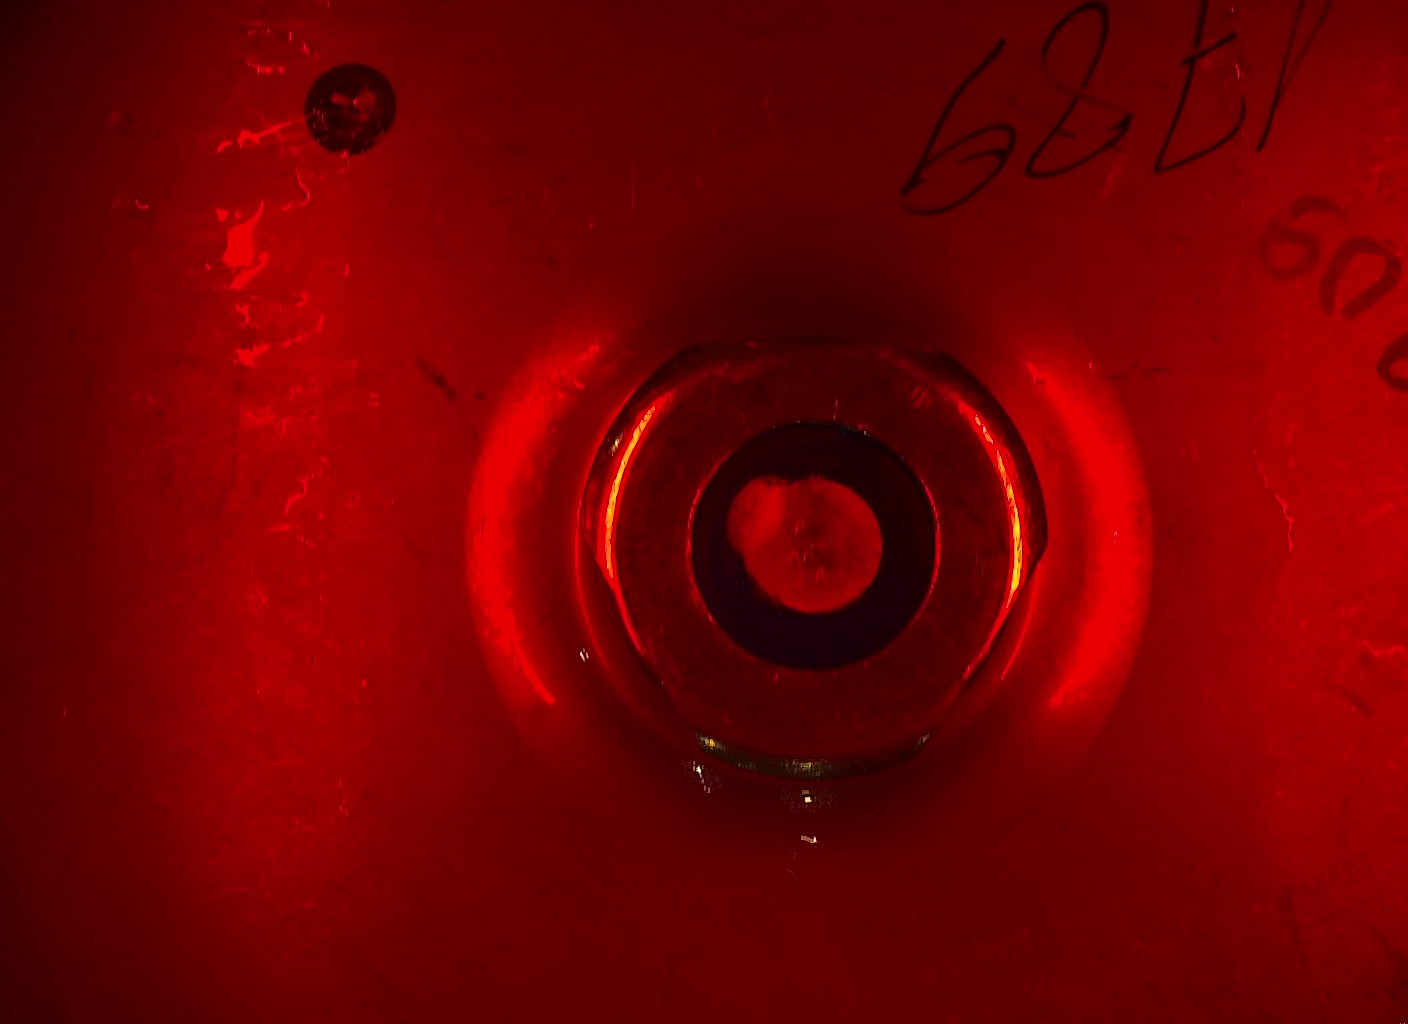pena: (723, 464, 795, 557)
